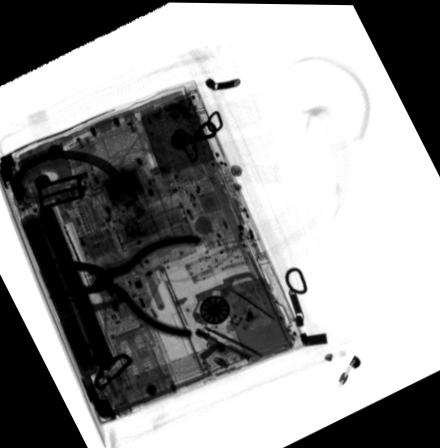Pliers: (62, 231, 204, 340)
